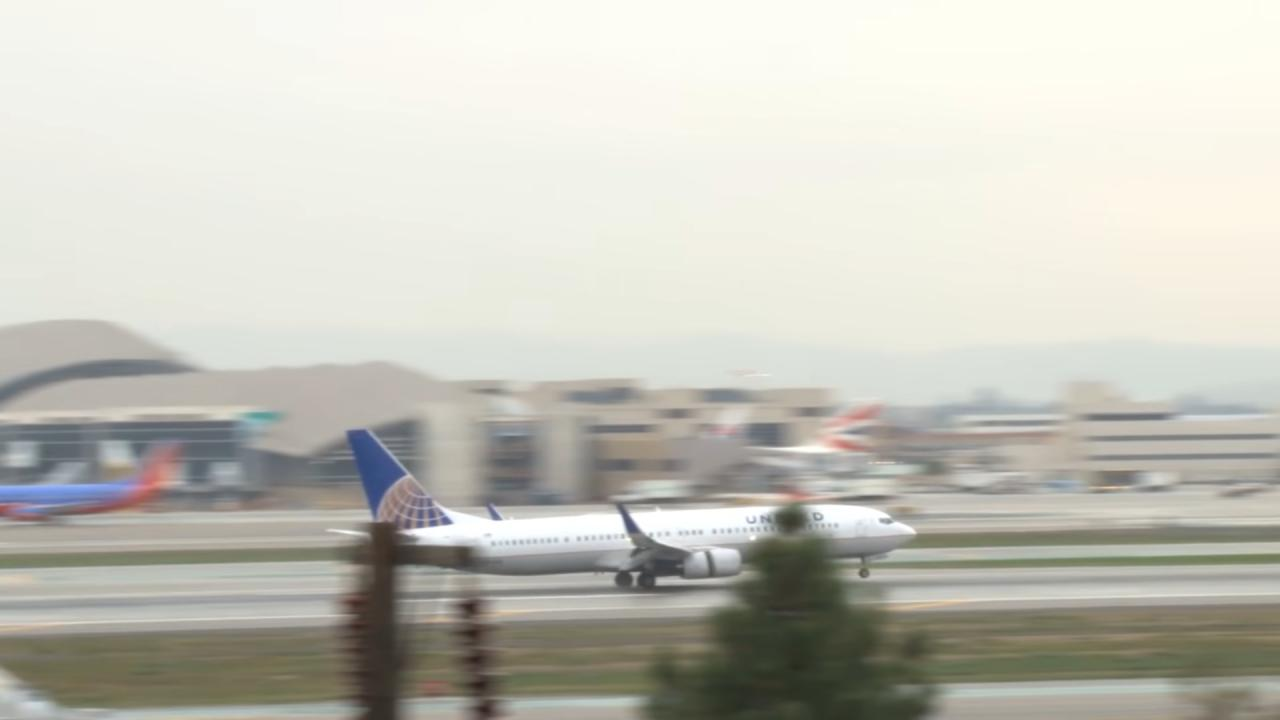Airplane: (314, 416, 935, 602)
